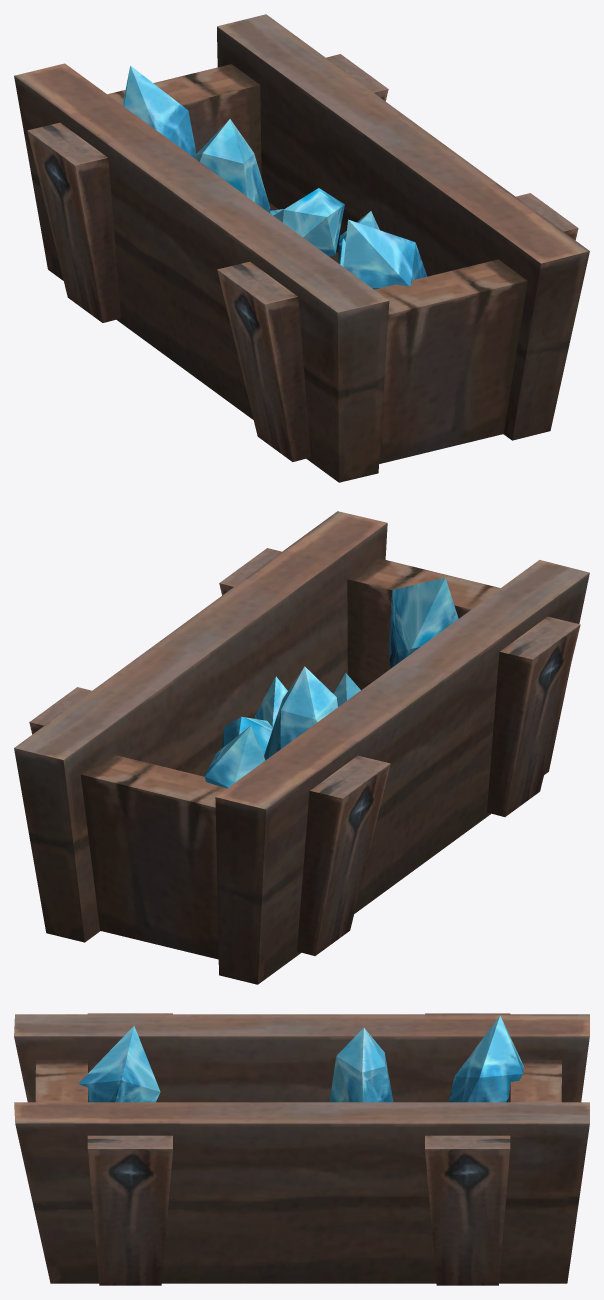
The model's file is mine_trough03.fbx.
3 renders of one model, top to bottom at view 1: azimuth 30°, elevation 25°; view 2: azimuth 150°, elevation 25°; view 3: azimuth 270°, elevation 25°, orthographic. The views are drawn at different scales.
Parts seen in each view (by area): view 1: mine_trough03-0; view 2: mine_trough03-0; view 3: mine_trough03-0.
Part boxes in pixels (x1,y1,x2,y2): mine_trough03-0: (14,14,589,482); mine_trough03-0: (14,511,589,984); mine_trough03-0: (14,1013,589,1285).
Bounding box in the file's own units: 1.57 × 1.1 × 2.81.
